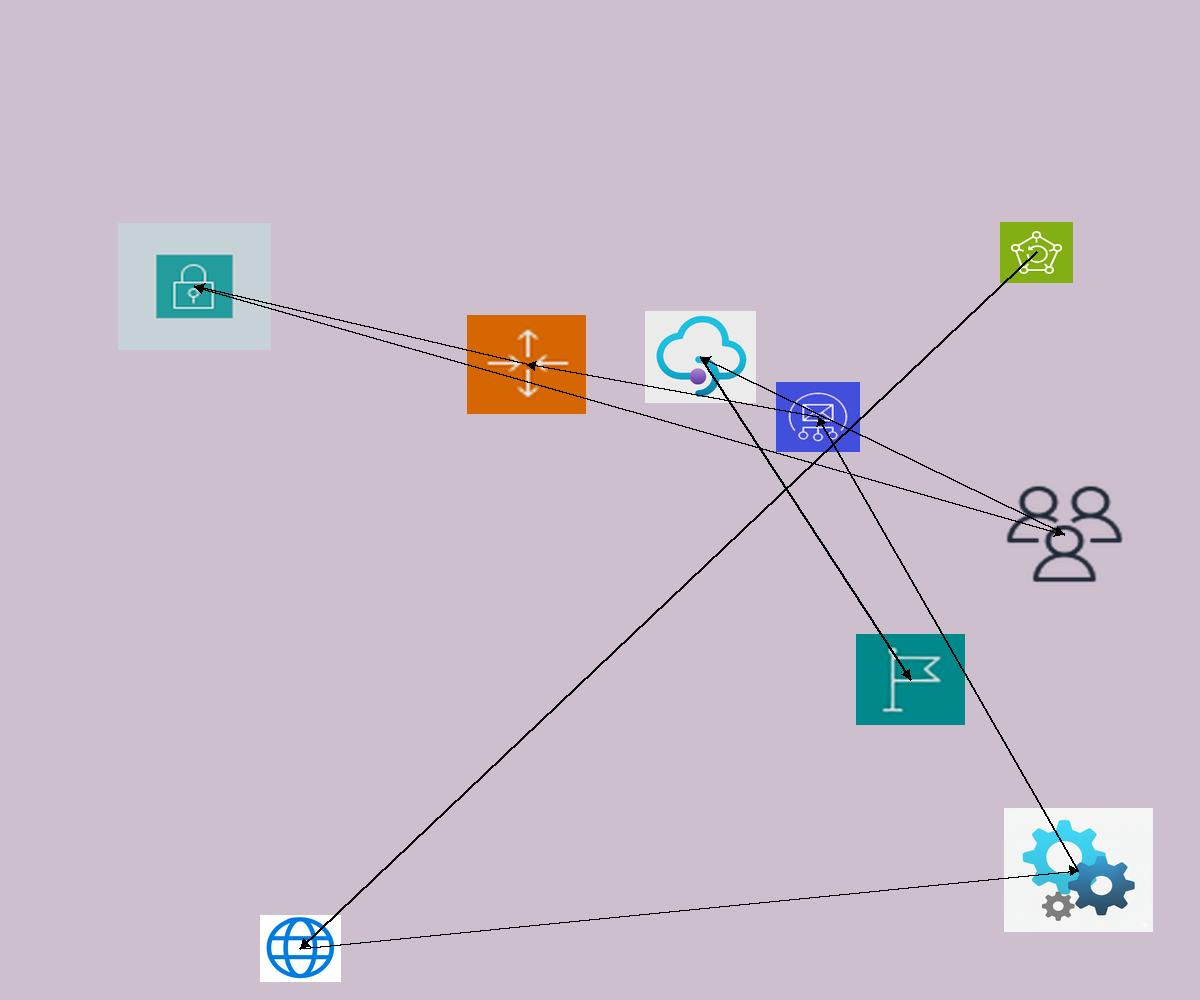AWS-Backup: (1000, 222, 1073, 283)
AWS-Private-subnet: (118, 223, 271, 350)
AWS-Region: (856, 634, 965, 725)
AWS-Res_Users: (1002, 482, 1127, 586)
AWS-Scaling-group: (467, 315, 586, 414)
AWS-Simple-Email-Service: (776, 382, 860, 452)
Azure_api: (1004, 808, 1153, 932)
Azure_api_gateway: (645, 311, 756, 403)
Azure_http: (260, 915, 341, 982)
